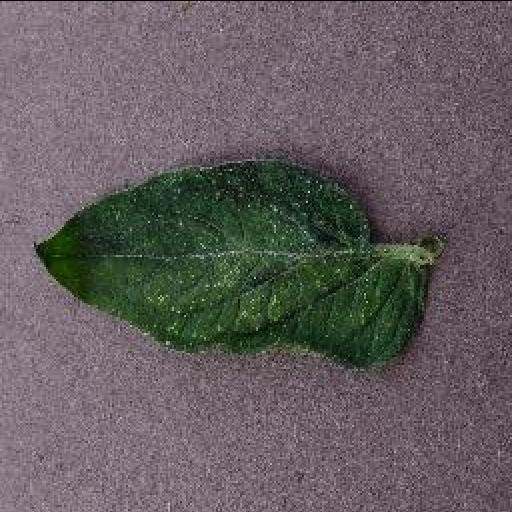disease_tomato: (32, 160, 430, 370)
